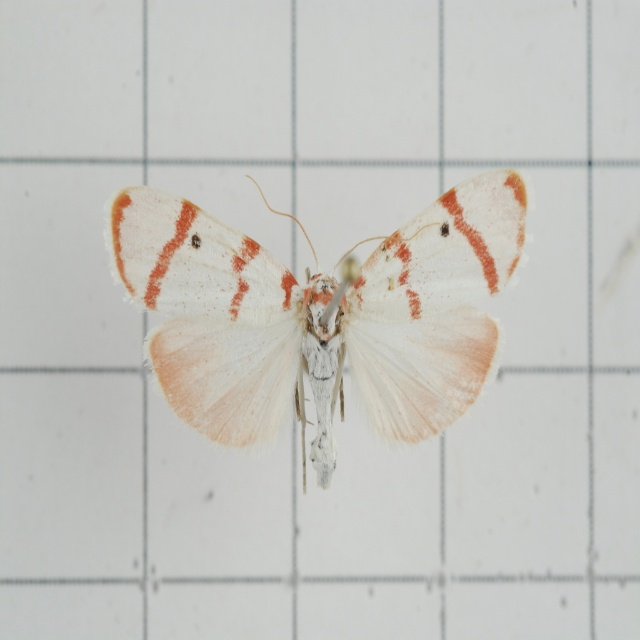Butterfly: (101, 176, 524, 492)
